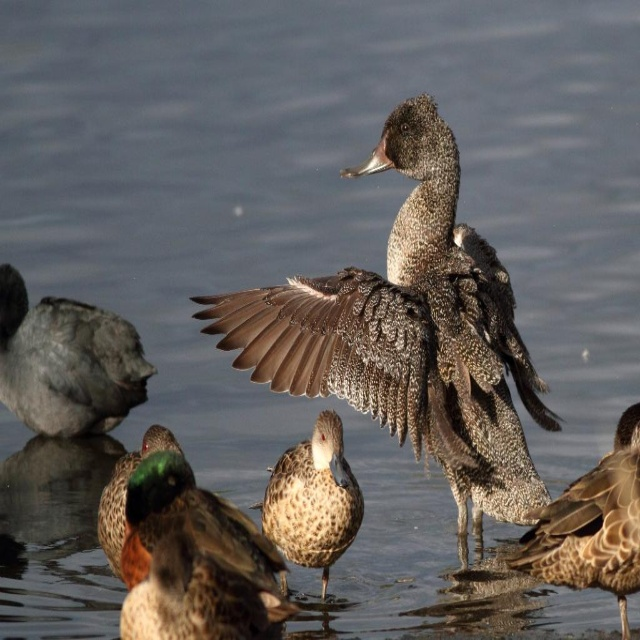Duck: (190, 113, 568, 520), (472, 400, 640, 639), (0, 268, 160, 492), (118, 455, 282, 639), (92, 421, 237, 593), (261, 411, 362, 611)
